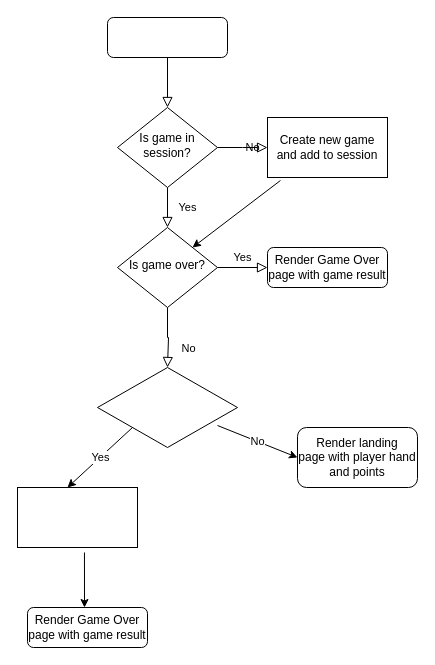
Image size: 435x665. Some labels were removed from this diagram. Here are the shapes that lost their labels. From the top down, the centre of each, then its label:
At pixel 167 37: "Access landing page".
At pixel 167 407: "Is player done?".
At pixel 77 517: "Bank plays".
